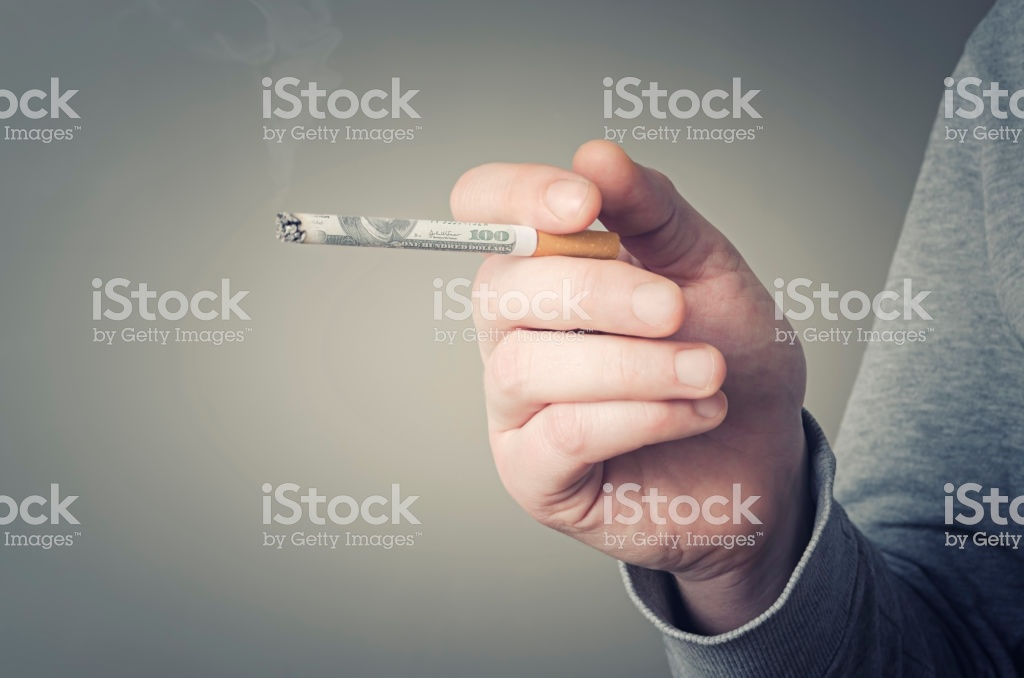sigaretta: (272, 214, 622, 262)
